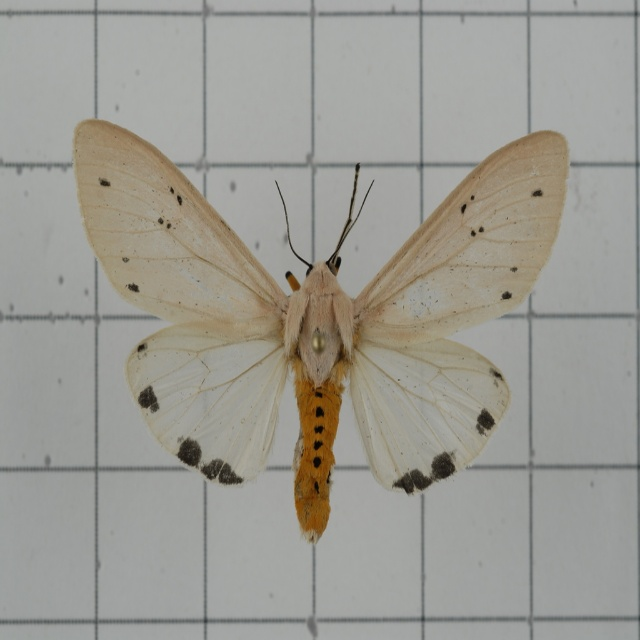Butterfly: (74, 111, 435, 529)
